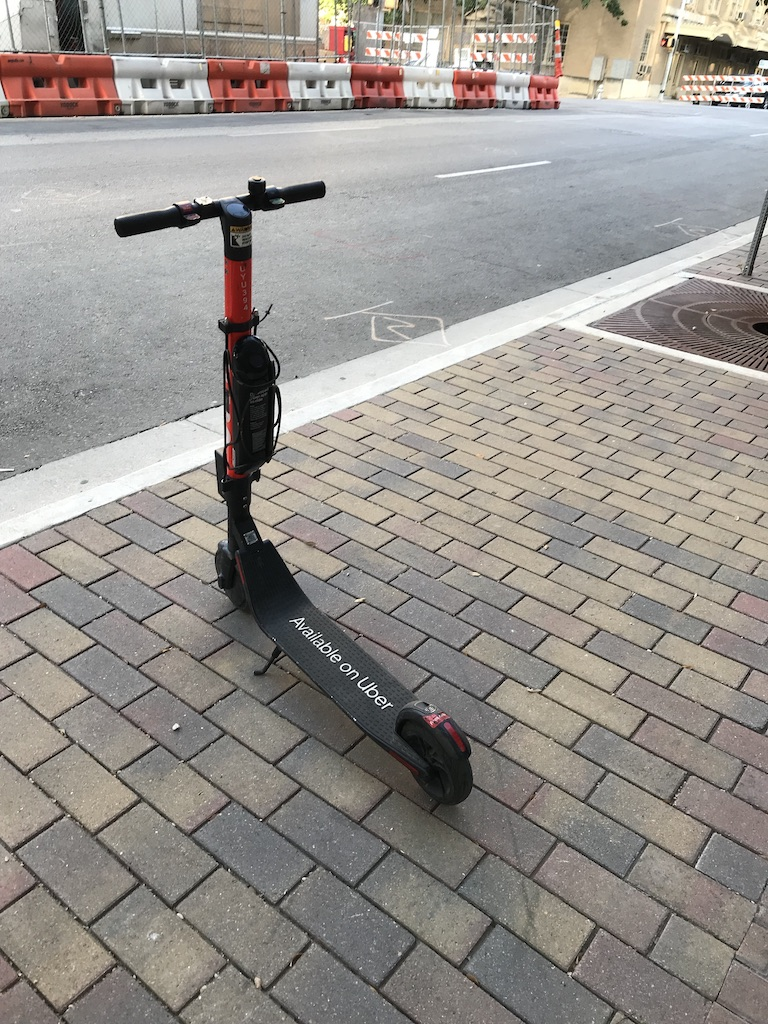scooter: (111, 176, 474, 812)
